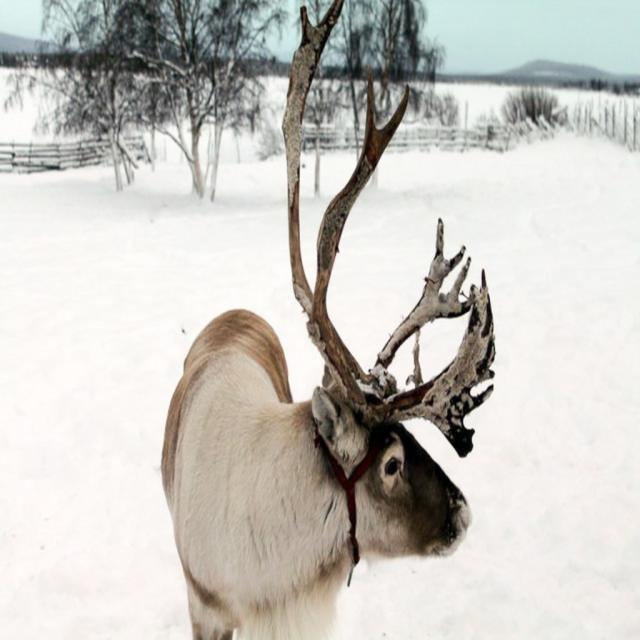Deer: (160, 0, 496, 639)
